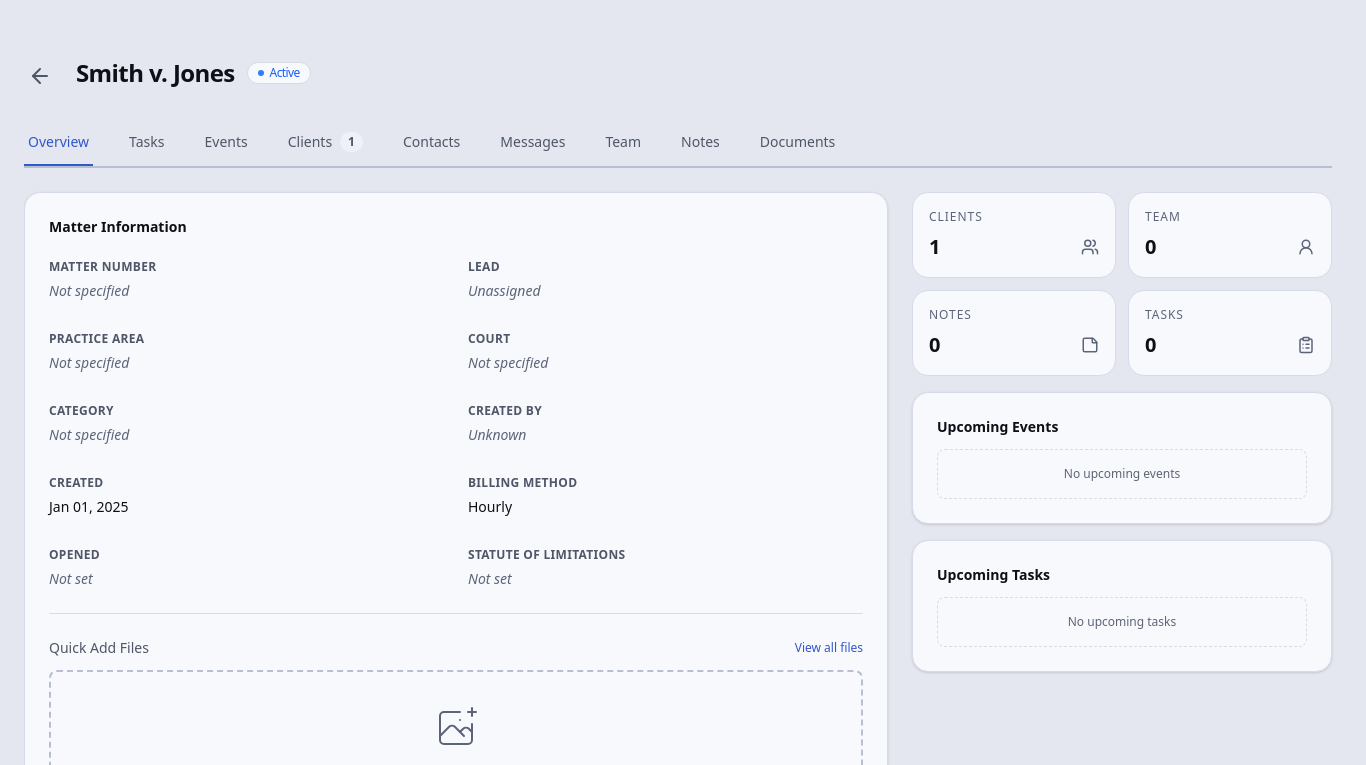
Scenario: overlays a portal client with its firm record, looked up by client id
Expected: the heading "Smith v. Jones Active" is shown, [76, 56, 311, 89]
What coordinates should you click on to do the following:
click the 1st button "Clients 1"
I would click on:
 (325, 143)
Its box is [284, 120, 367, 166].
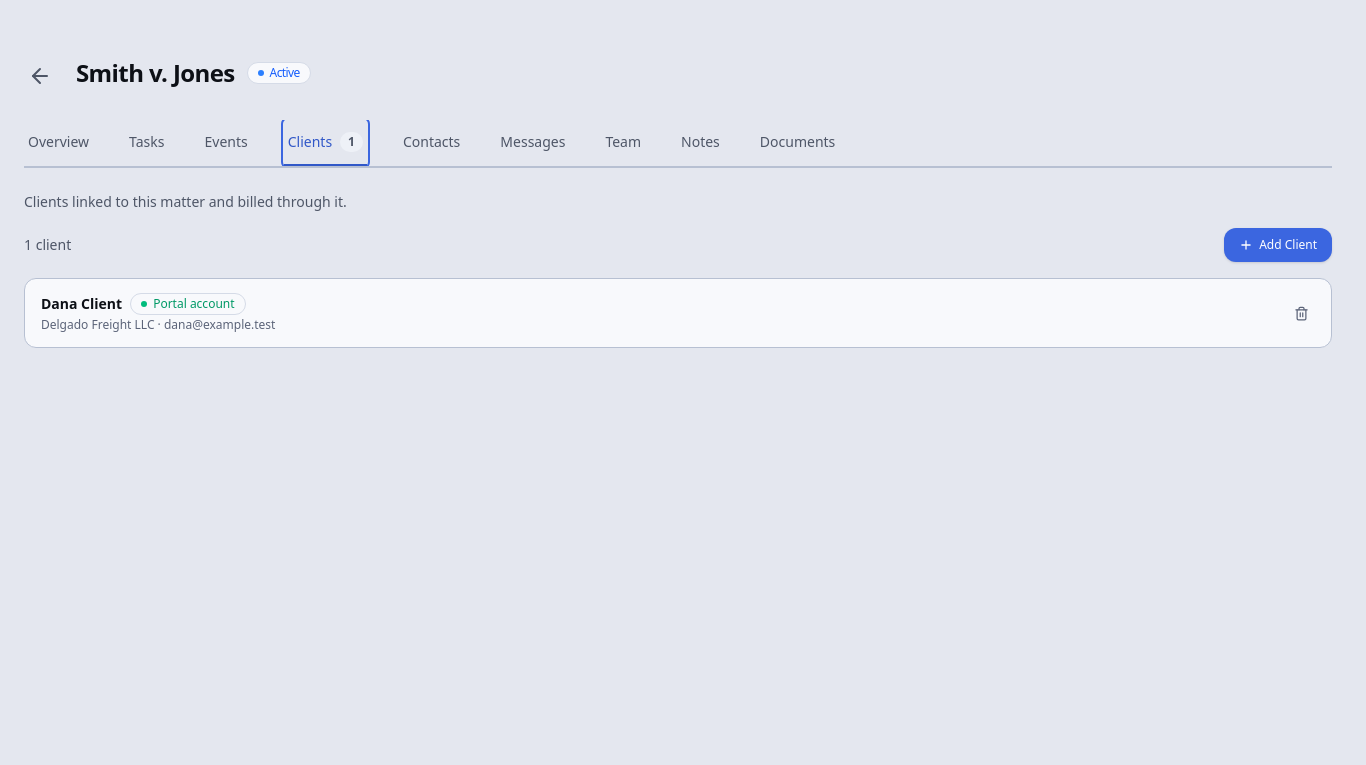
Result: the button named "Remove Dana Client" is shown at [1288, 300, 1315, 326]
Result: the text "Delgado Freight LLC · dana@example.test" is shown at [41, 316, 276, 333]
